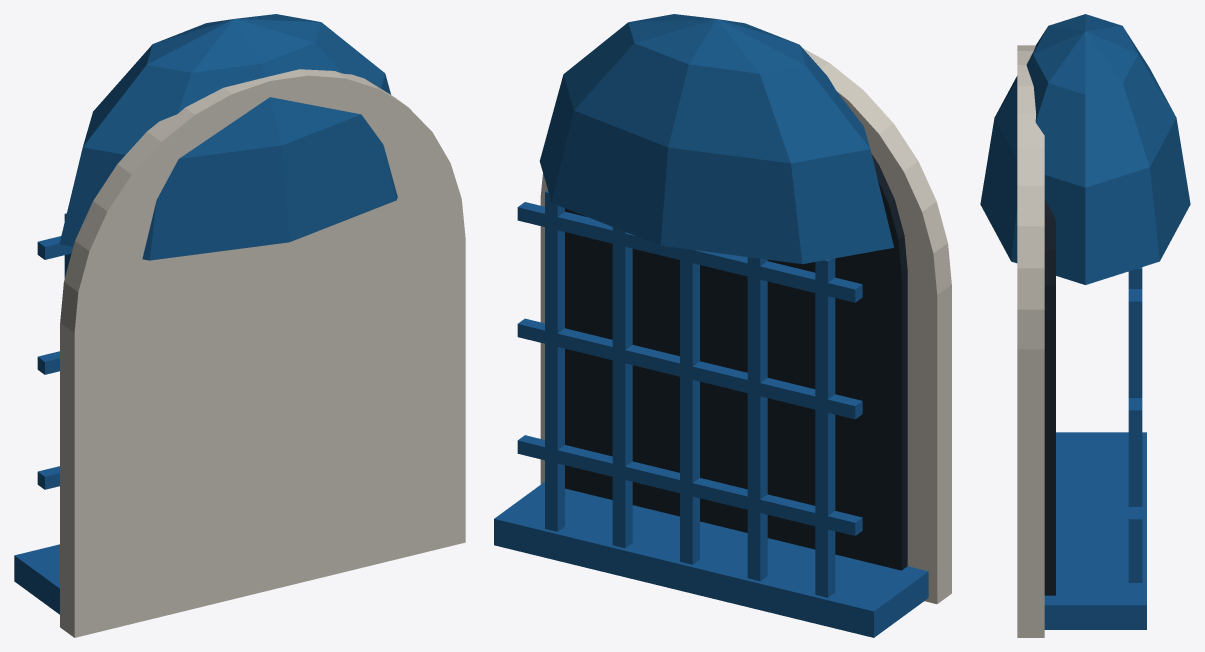
File: window_birdcage_blue.glb
3 renders of one model, left to right at view 1: azimuth 30°, elevation 25°; view 2: azimuth 150°, elevation 25°; view 3: azimuth 270°, elevation 25°, orthographic. The views are drawn at different scales.
Parts seen in each view (by area): view 1: window_birdcage_blue; view 2: window_birdcage_blue; view 3: window_birdcage_blue.
Part boxes in pixels (bbox=[...]): window_birdcage_blue: bbox=[14, 14, 465, 637]; window_birdcage_blue: bbox=[494, 14, 951, 637]; window_birdcage_blue: bbox=[980, 14, 1190, 637].
Size of the model in its own units: 0.94 by 1.25 by 0.462.
